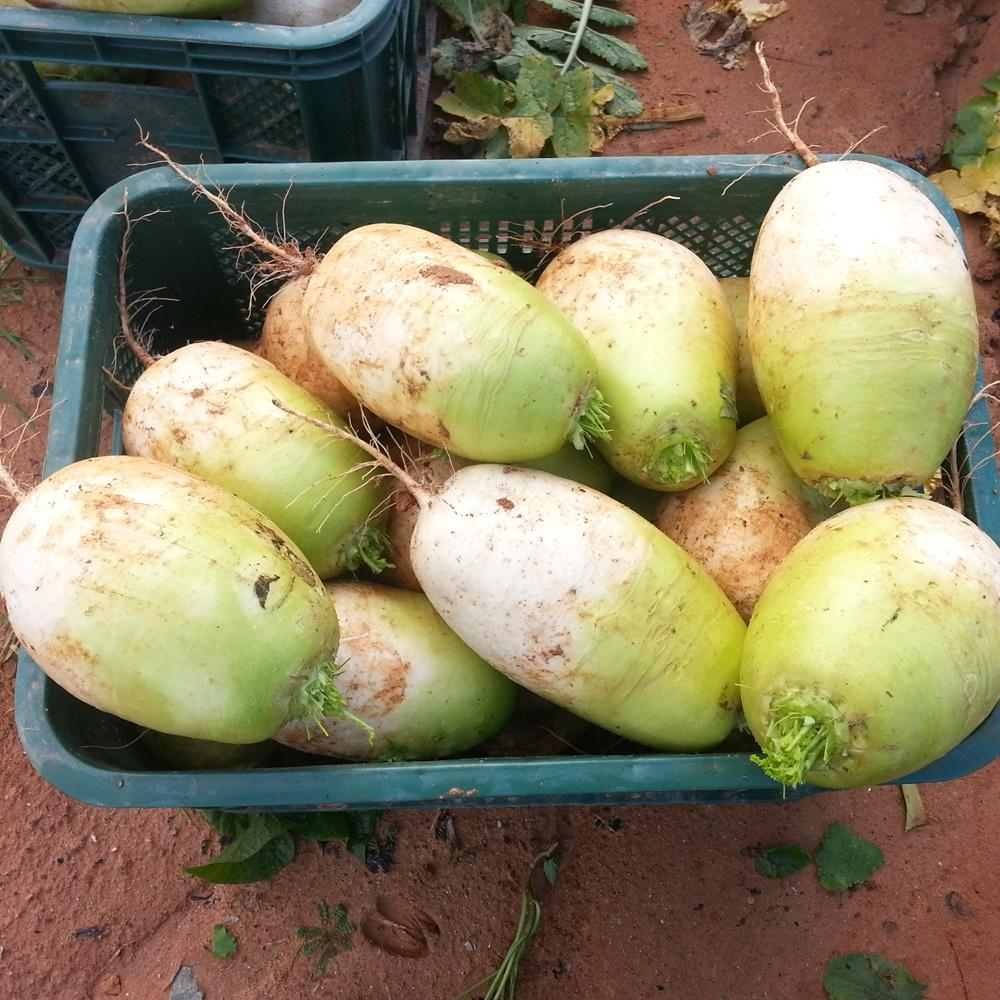radish: (536, 372, 902, 692), (47, 748, 483, 1000), (653, 744, 1000, 1000), (838, 277, 1000, 769)
